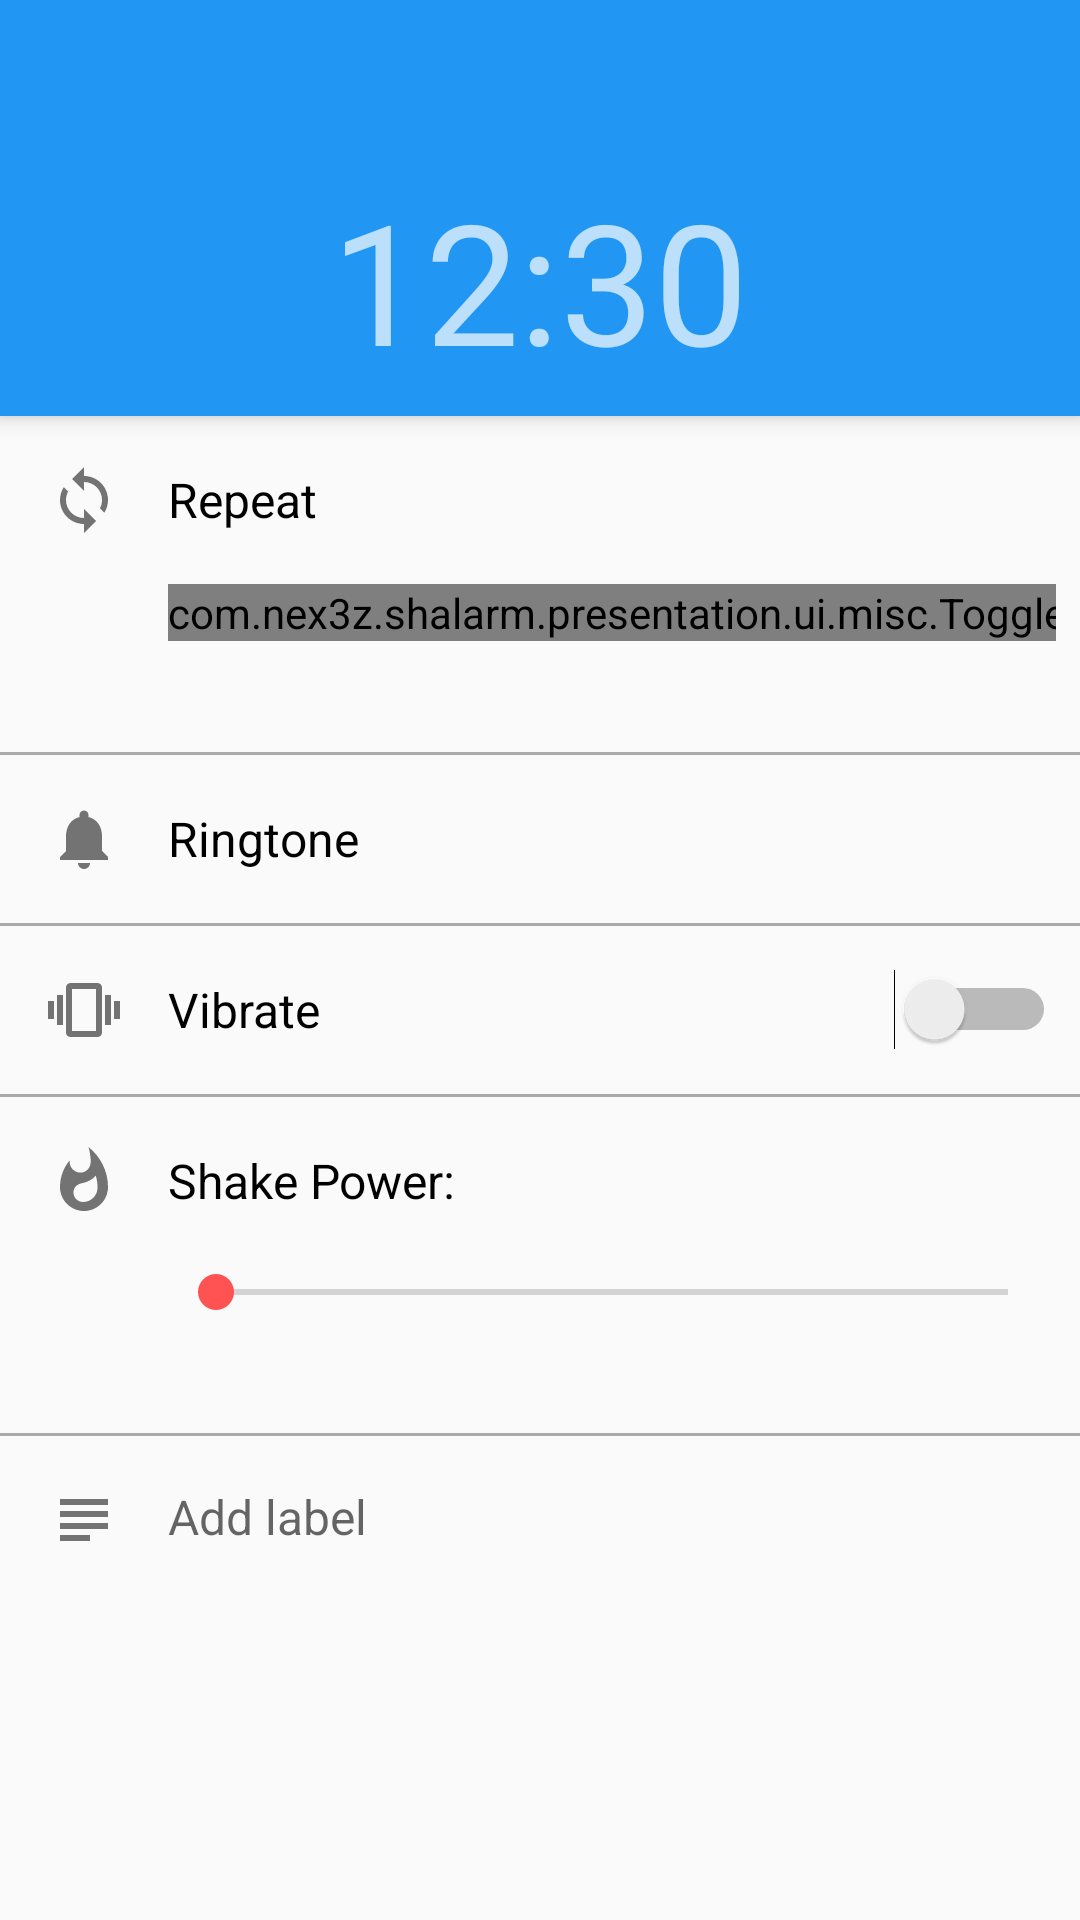

Icons on this 1080x1920 Android screen, each with its box as (x1, y1, x2, y2):
vibration: (48, 983, 120, 1037)
